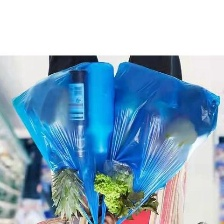plastic_bag: (104, 52, 223, 224), (7, 58, 118, 223)
